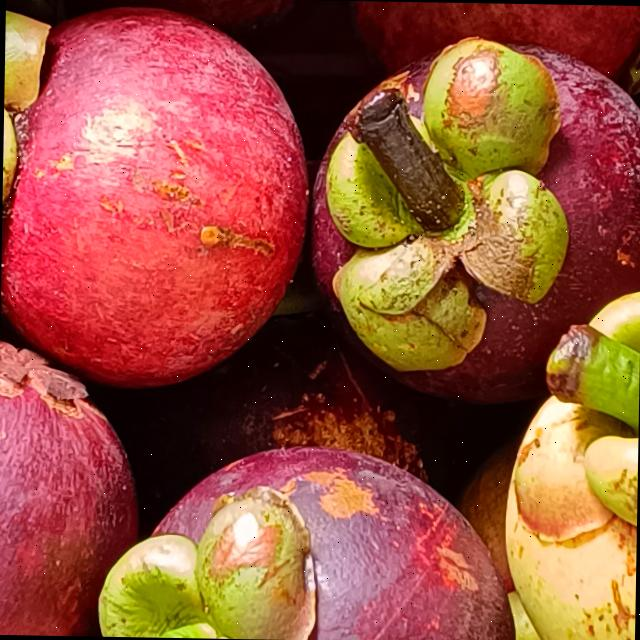mangosteen: (0, 0, 327, 362), (330, 59, 640, 397), (346, 286, 640, 640), (76, 428, 503, 640), (0, 333, 121, 636)
